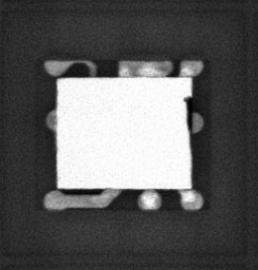DIE_BROKEN: (182, 94, 193, 133)
